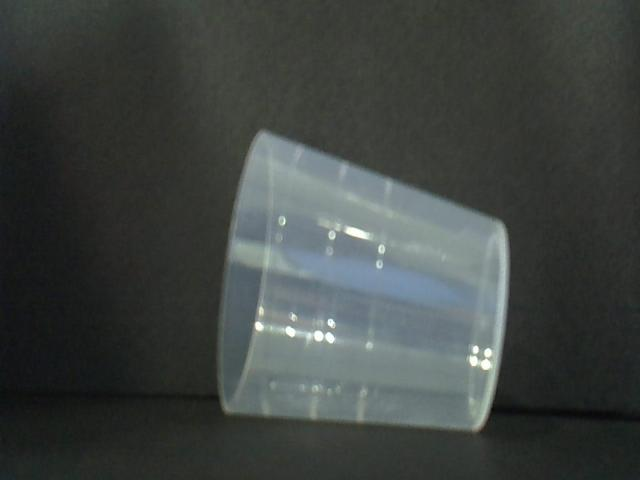cup: (212, 128, 513, 438)
